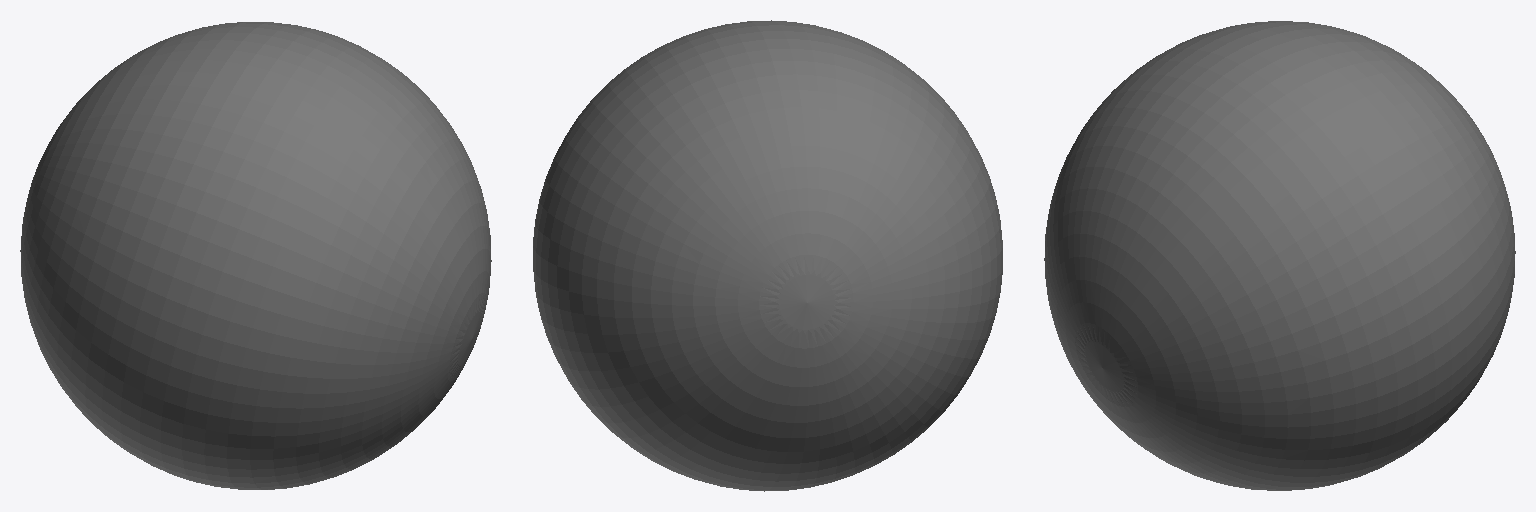
URDF robot description (3_ball):
<?xml version="1.0"?>
<robot name="3_ball">
  <link name="base">
    <visual>
      <geometry>
        <mesh filename="3_ball.obj" scale="1 1 1"/>
      </geometry>
      <material name="gray">
        <color rgba="0.5 0.5 0.5 1.0"/>
      </material>
    </visual>
    <collision>
      <geometry>
        <mesh filename="3_ball.obj" scale="1 1 1"/>
      </geometry>
    </collision>
    <inertial>
      <mass value="1.000"/>
      <inertia
          ixx="0.001032" ixy="0.000000" ixz="0.000000"
          iyy="0.001031" iyz="0.000000"
          izz="0.001034"/>
      <origin xyz="0.054495 -0.041228 0.833091" rpy="0 0 0"/>
    </inertial>
  </link>
</robot>

--- Facts derived from the render (not from the file) ---
3 views of the same robot in one strip: view 1: azimuth 30°, elevation 25°; view 2: azimuth 150°, elevation 25°; view 3: azimuth 270°, elevation 25° (orthographic).
Robot: 3_ball — 1 links, 0 joints (none); root link base; default pose: every joint at zero.
Links seen in each view (by area): view 1: base; view 2: base; view 3: base.
Link boxes in pixels (box(x1,y1,x2,y2)): base: box(20, 22, 491, 489); base: box(533, 20, 1002, 491); base: box(1044, 21, 1515, 490).
Bounding box of the posed robot: 0.0788 × 0.0788 × 0.0785 m (x, y, z).
1 mesh visuals loaded from 1 distinct referenced files (1 OBJ).
